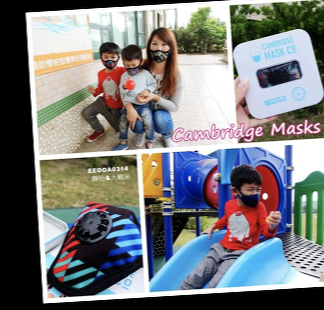with_mask: (239, 183, 263, 210), (147, 37, 170, 64), (100, 52, 119, 70), (123, 60, 142, 77)
